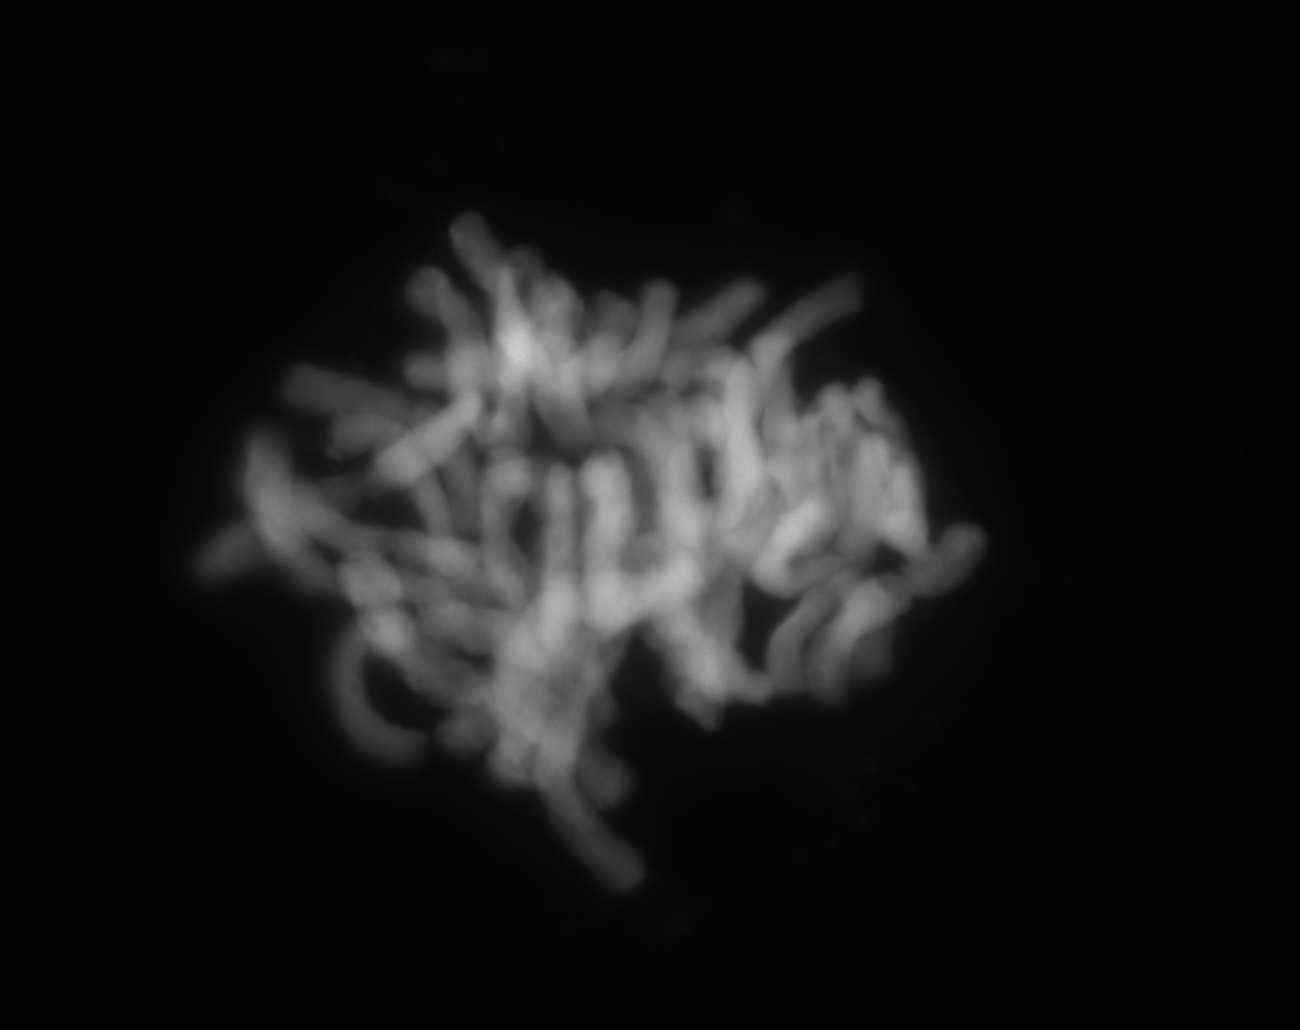Chromosomes: (188, 166, 1062, 907)
